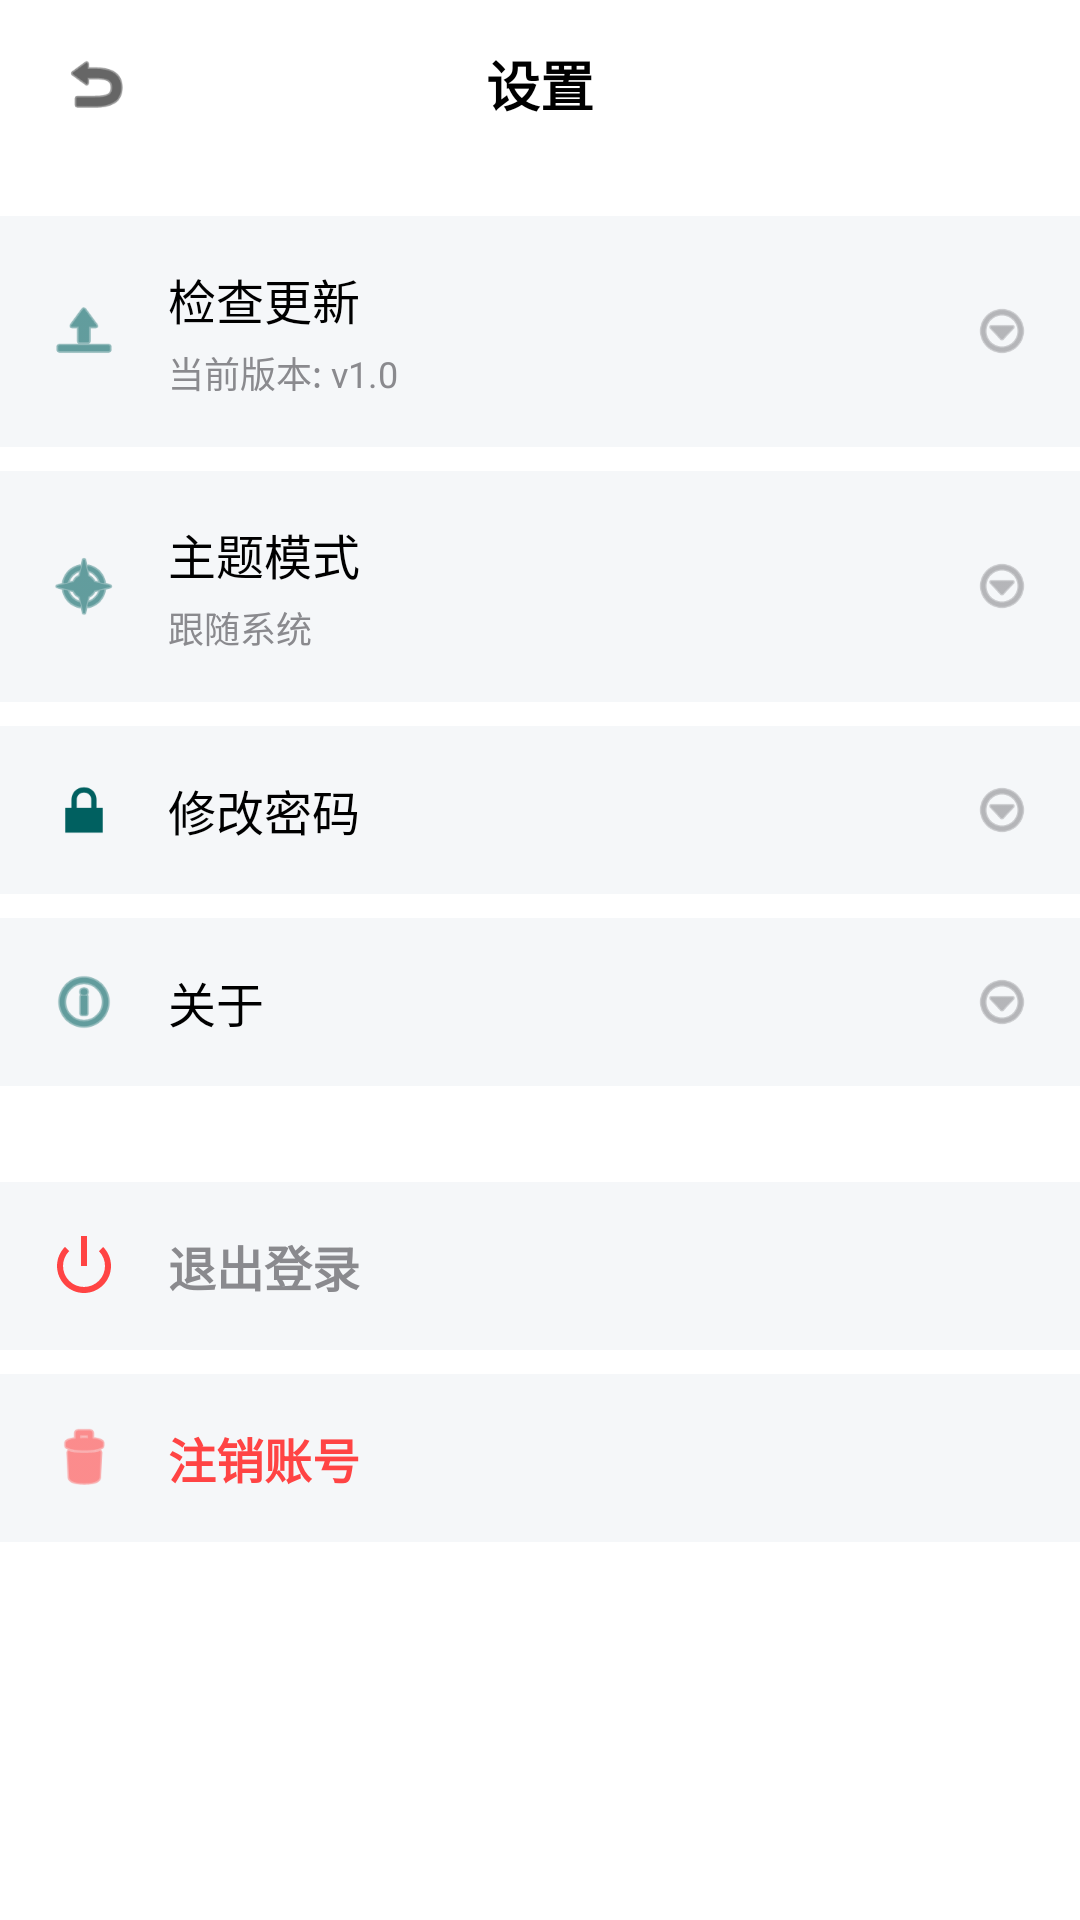

Named icons in this screenshot (1080×1920) and their centers, point (x, y):
compass: point (83, 586)
delete: point (84, 1457)
info details: point (84, 1002)
lock: point (84, 810)
lock power off: point (84, 1264)
more: point (1002, 331), point (1002, 586), point (1002, 810), point (1002, 1002)
upload: point (84, 330)
返回: point (97, 84)
